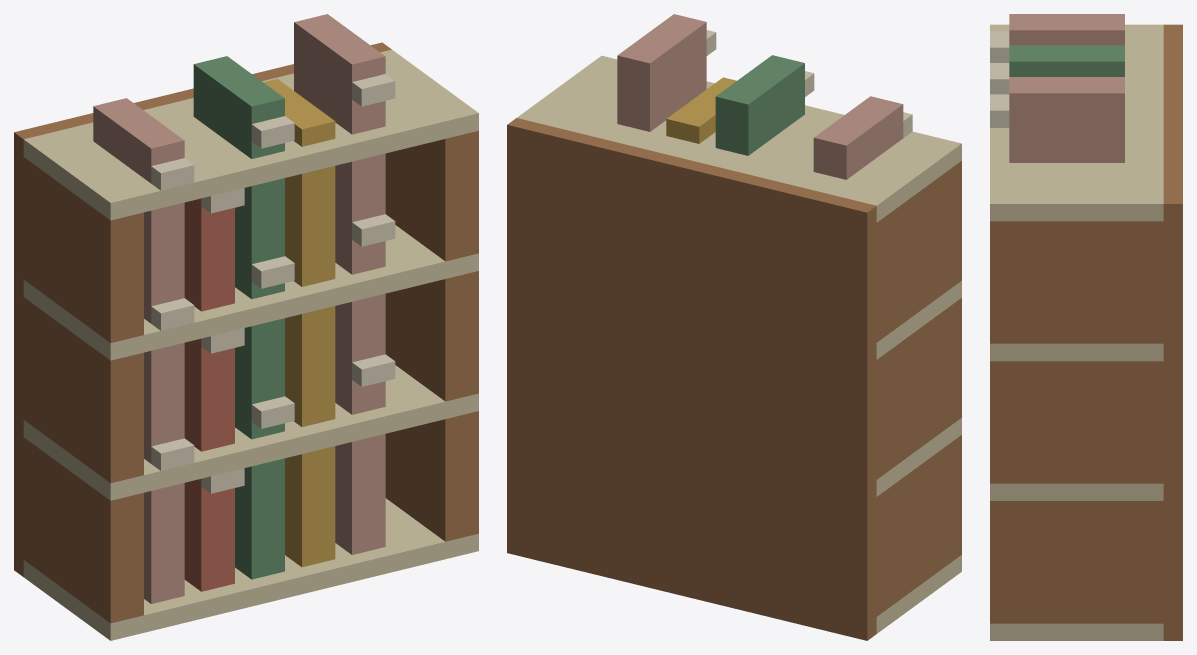
File: art-11.glb
3 views of the same model, side by side, from view 1: azimuth 30°, elevation 25°; view 2: azimuth 150°, elevation 25°; view 3: azimuth 270°, elevation 25° (orthographic). The views are drawn at different scales.
Parts seen in each view (by area): view 1: Art books; view 2: Art books; view 3: Art books.
Part boxes in pixels (x1=…): Art books: x1=14, y1=14, x2=478, y2=640; Art books: x1=507, y1=14, x2=961, y2=640; Art books: x1=990, y1=14, x2=1182, y2=640.
Bounding box in the file's own units: 1.76 × 2.32 × 0.8.
